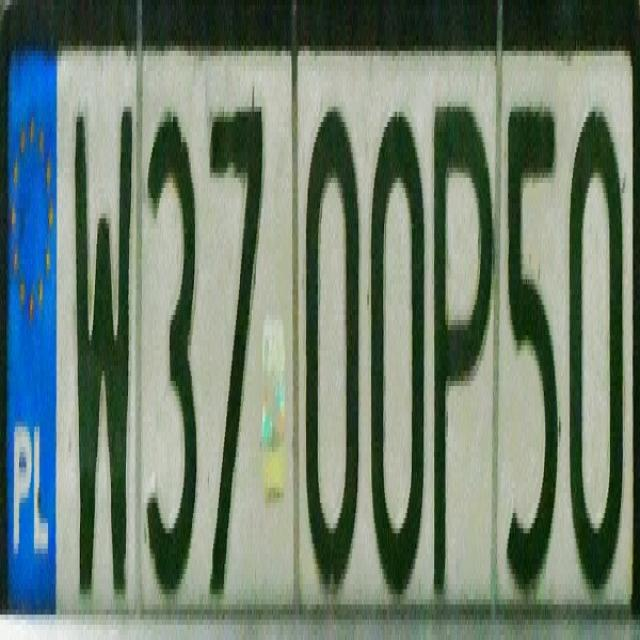pl_license_plate: (7, 51, 630, 599)
